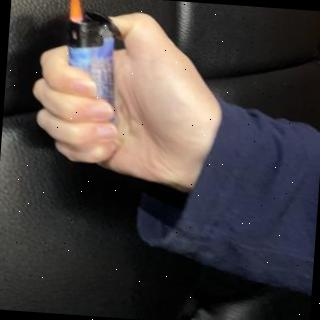fire: (66, 0, 85, 25)
